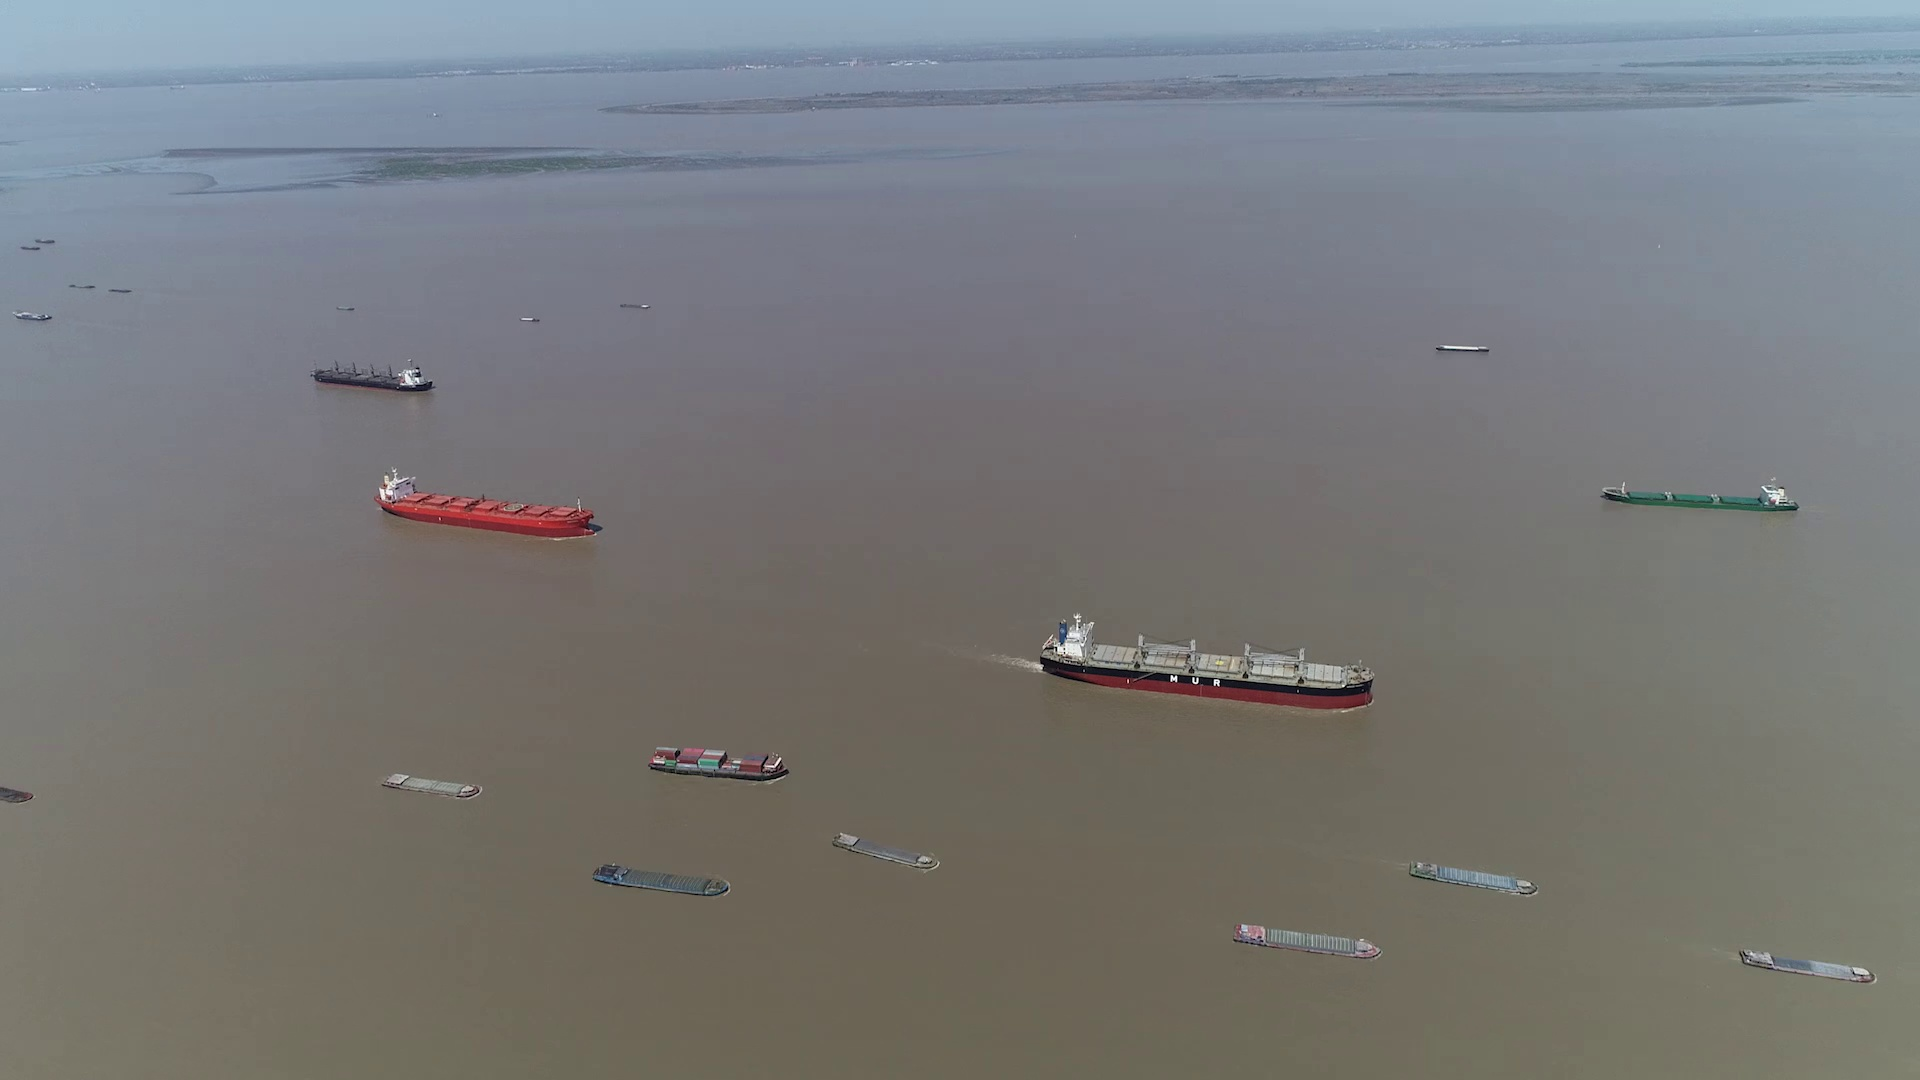ship: (1040, 616, 1373, 709), (373, 471, 595, 538), (1600, 480, 1804, 512), (1234, 920, 1378, 959), (650, 744, 789, 781), (591, 862, 731, 898), (1738, 948, 1873, 982), (1412, 861, 1538, 895), (832, 833, 938, 872), (311, 360, 434, 390), (382, 773, 483, 799), (0, 781, 33, 808), (1437, 343, 1487, 352), (15, 310, 53, 322), (620, 302, 653, 309)
